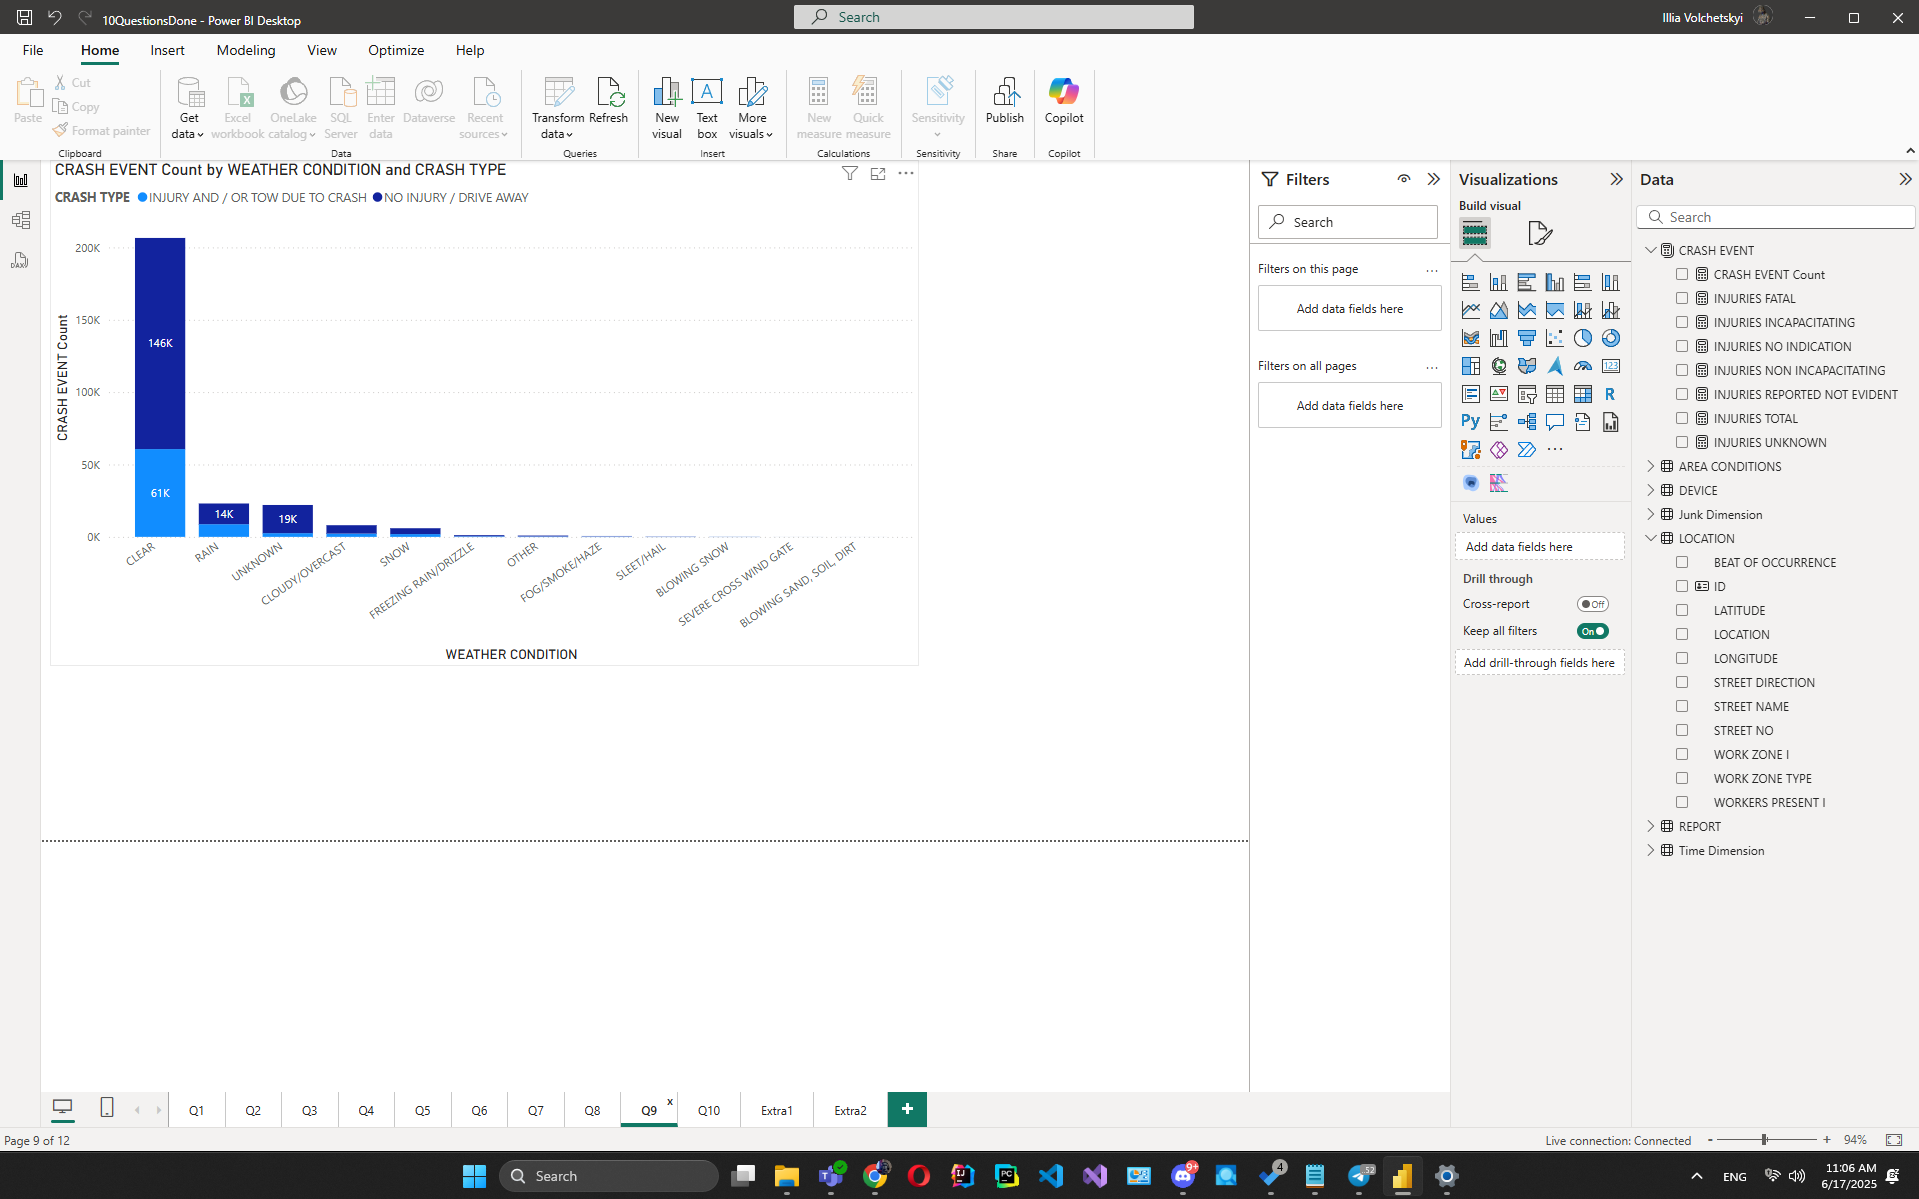

This screenshot's page, from the dashboard's own definition file:
{"tool":"powerbi","page":{"name":"Q9","canvas":[1280,720],"ordinal":8},"visuals":[{"type":"columnChart","fields":{"Category":["AREA CONDITIONS.WEATHER CONDITION"],"Series":["REPORT.CRASH TYPE"],"Y":["CRASH EVENT.CRASH EVENT Count"]},"box":[10,0,920,536.7],"z":0},{"type":"pieChart","title":"Distribution of Weather Conditions","fields":{"Y":["CRASH EVENT.CRASH EVENT Count"],"Category":["AREA CONDITIONS.WEATHER CONDITION"]},"box":[913,0,367,282],"z":1000}]}

Visuals, with their boxes on the page's 1280x720 design canvas (x1, y1, x2, y2). These are canvas units, not pixel positions in the 1919x1199 screenshot, which may show the page scaled, cropped or inside an application window:
columnChart - AREA CONDITIONS.WEATHER CONDITION x REPORT.CRASH TYPE: left=10, top=0, right=930, bottom=537
"Distribution of Weather Conditions" pieChart: left=913, top=0, right=1280, bottom=282
